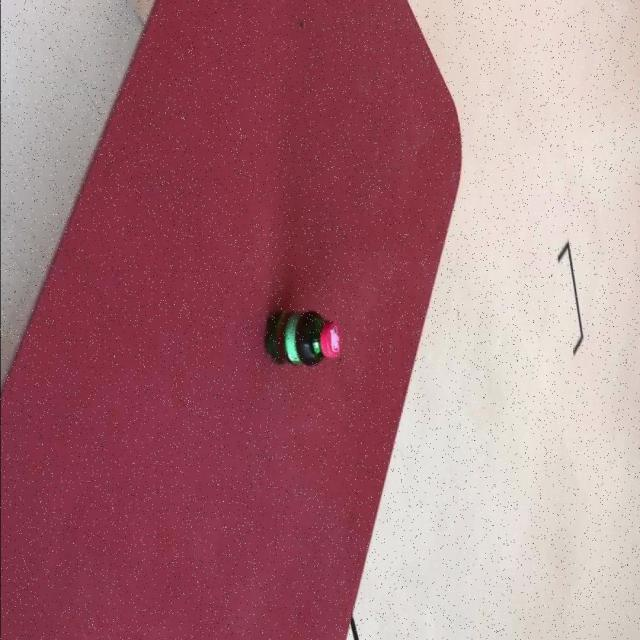Guarana: (265, 306, 342, 367), (283, 308, 342, 366)
